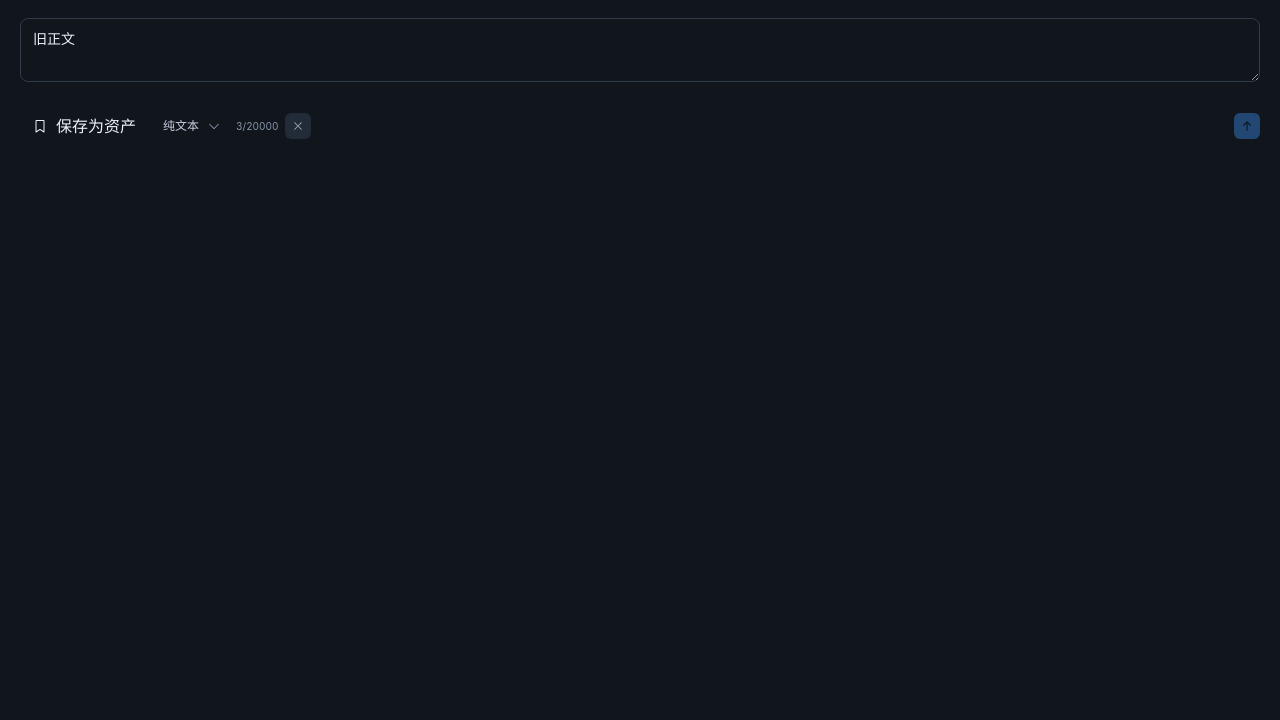
saves unsaved text before reading the library snapshot
This screenshot has width=1280, height=720.
Replace the text in the text box named "内容" with "新正文": coordinates (640, 50) [20,18,1260,82]
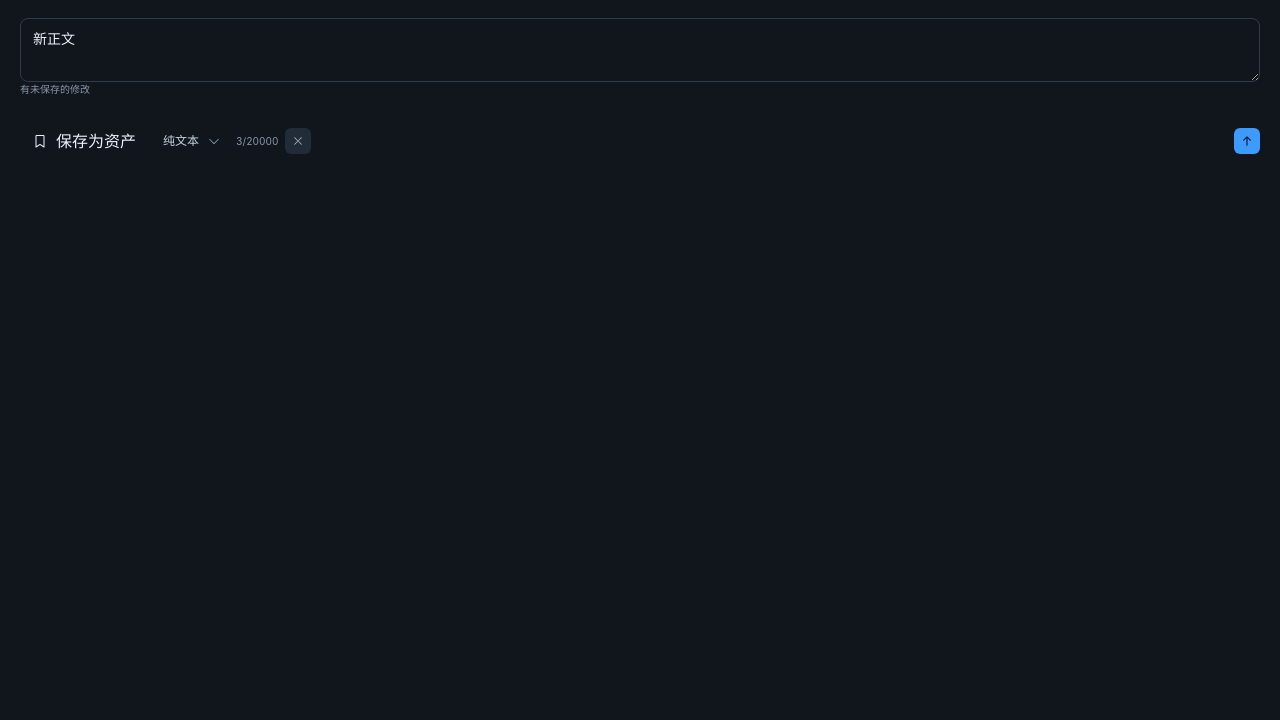
Click the button "保存为资产": coordinates (84, 141) [20,123,148,159]
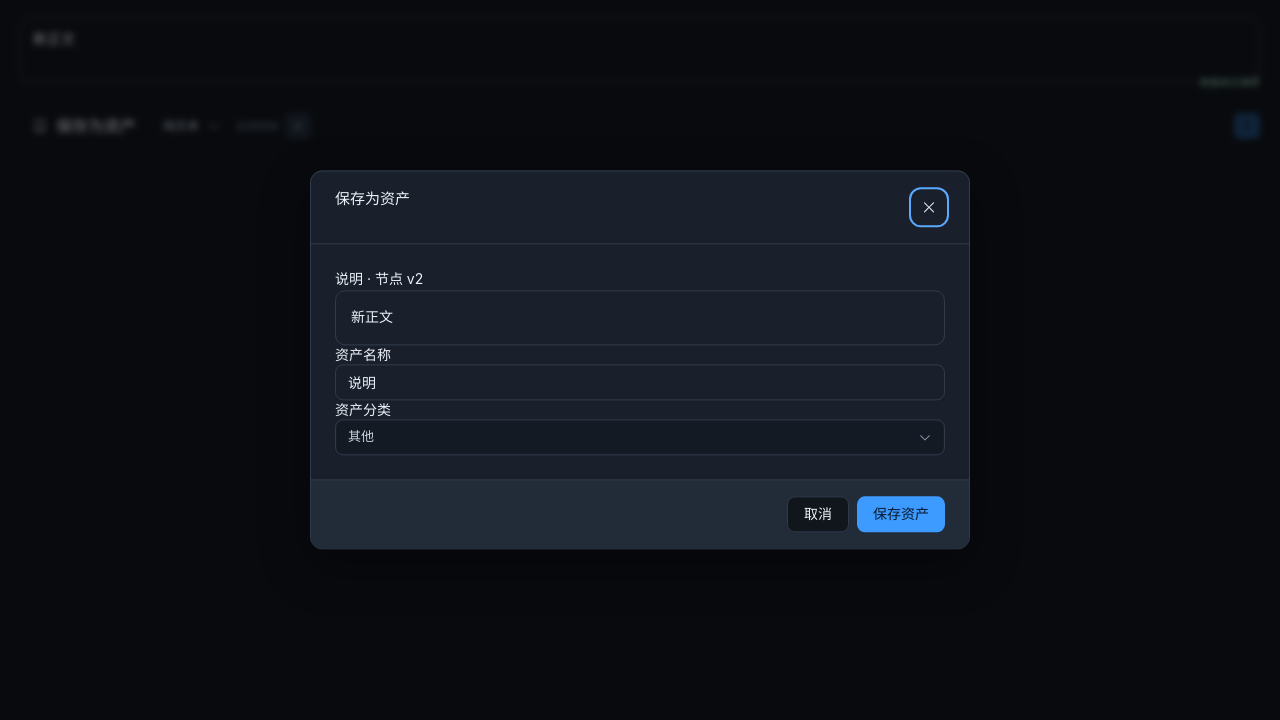
Check: the dialog "保存为资产" shows "新正文", box [351,309,393,326]
